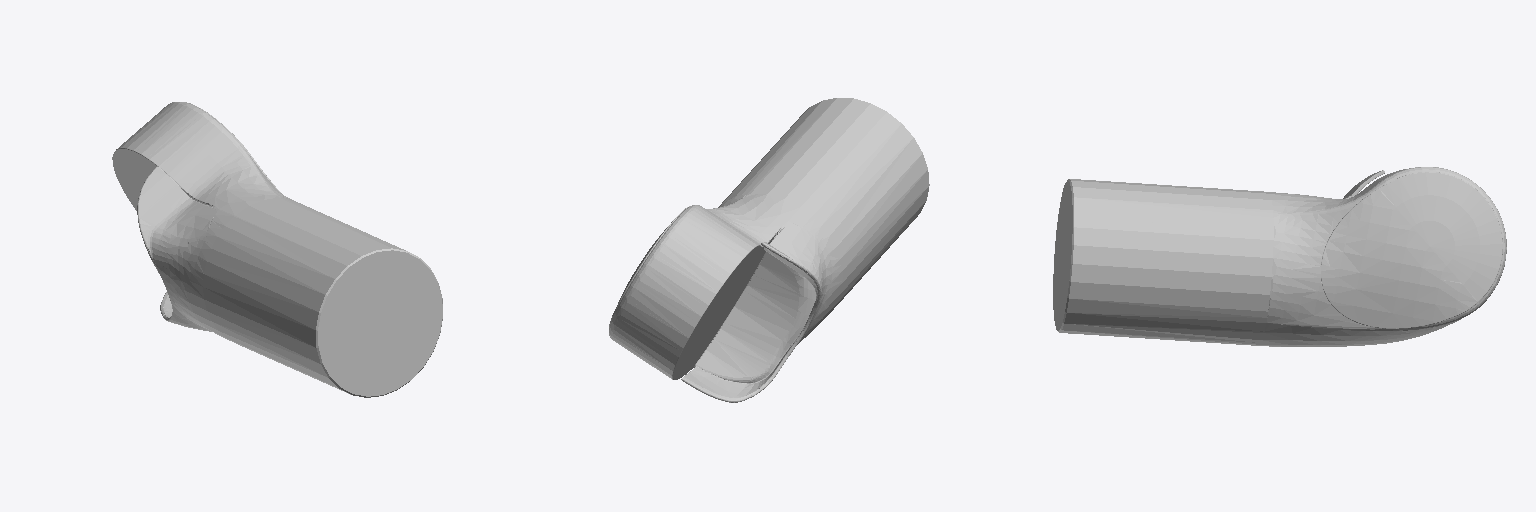
The model's file is arm_right_3.obj.
3 views of the same model, side by side, from view 1: azimuth 30°, elevation 25°; view 2: azimuth 150°, elevation 25°; view 3: azimuth 270°, elevation 25° (orthographic).
Parts seen in each view (by area): view 1: arm_right_3; view 2: arm_right_3; view 3: arm_right_3.
Part boxes in pixels (x1,y1,x2,y2): arm_right_3: (112,102,442,397); arm_right_3: (609,98,929,402); arm_right_3: (1053,167,1506,346).
Size of the model in its own units: 0.1229 by 0.1336 by 0.2937.